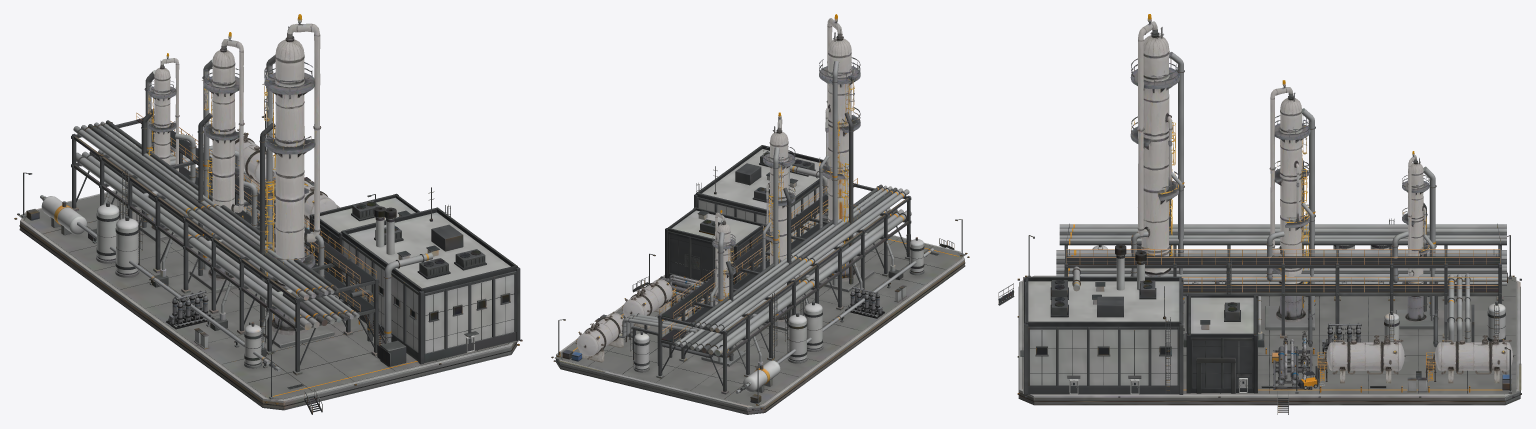
The model's file is refinery.lite.glb.
The picture shows the model from 3 angles, left to right: view 1: azimuth 30°, elevation 25°; view 2: azimuth 150°, elevation 25°; view 3: azimuth 270°, elevation 25°; orthographic projection. The views are drawn at different scales.
Parts seen in each view (by area): view 1: hull, parts_colony-distColumn, parts_colony-htankSkid, parts_colony-filterBank; view 2: hull, parts_colony-distColumn, parts_colony-htankSkid, parts_colony-filterBank, parts_colony-manifoldSkid; view 3: hull, parts_colony-distColumn, parts_colony-htankSkid, parts_colony-manifoldSkid, parts_colony-filterBank.
Part boxes in pixels (<box>): hull: <box>14,54,522,414</box>; parts_colony-distColumn: <box>147,14,321,335</box>; parts_colony-htankSkid: <box>235,129,336,227</box>; parts_colony-filterBank: <box>166,209,274,329</box>; hull: <box>551,61,969,414</box>; parts_colony-distColumn: <box>712,14,860,358</box>; parts_colony-htankSkid: <box>577,278,676,362</box>; parts_colony-filterBank: <box>692,287,884,318</box>; parts_colony-manifoldSkid: <box>660,274,711,308</box>; hull: <box>998,52,1521,414</box>; parts_colony-distColumn: <box>1130,14,1429,322</box>; parts_colony-htankSkid: <box>1317,335,1513,383</box>; parts_colony-manifoldSkid: <box>1273,331,1312,389</box>; parts_colony-filterBank: <box>1213,281,1364,353</box>.
Bounding box in the file's own units: 45.28 × 51.78 × 77.28.
Materials: 7 (7 with a texture image).
